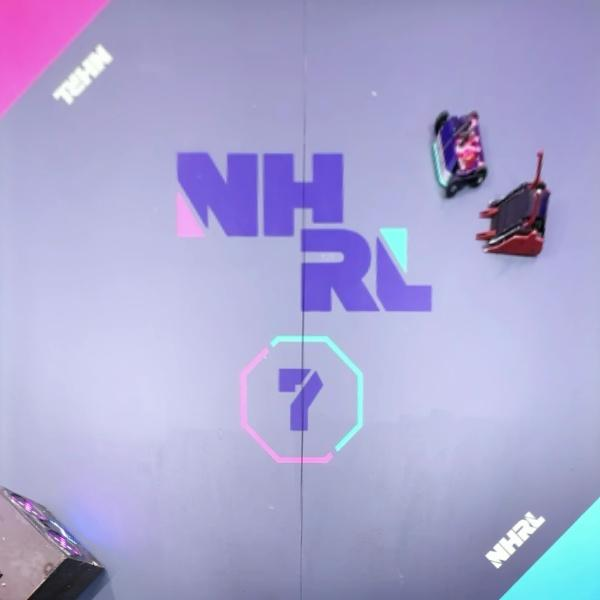housebot: (0, 485, 106, 600)
robot: (478, 150, 552, 258), (431, 109, 487, 196)
